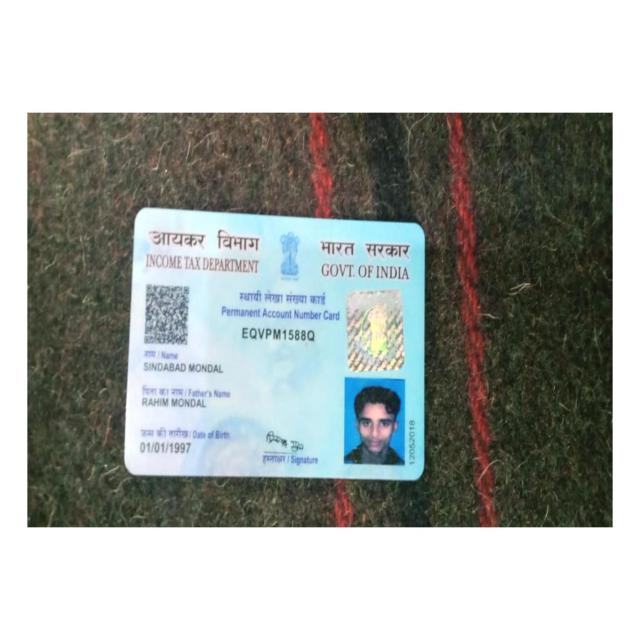pan_card: (125, 210, 423, 478)
